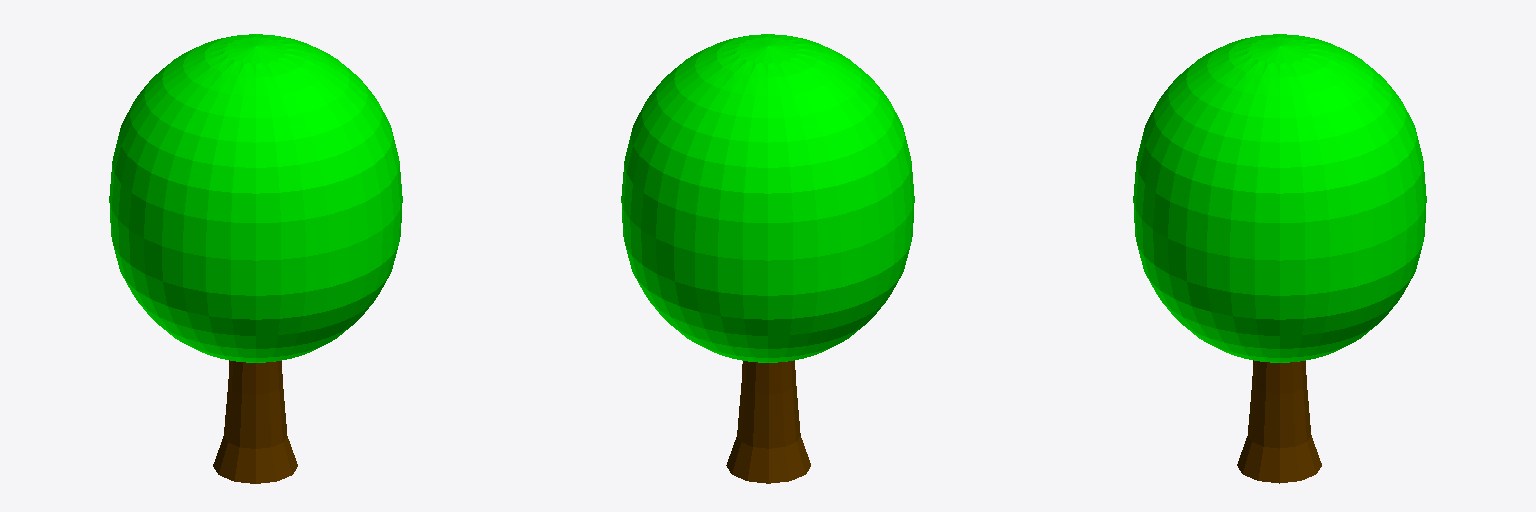
The model's file is tree1.obj.
The picture shows the model from 3 angles: view 1: azimuth 30°, elevation 25°; view 2: azimuth 150°, elevation 25°; view 3: azimuth 270°, elevation 25°; orthographic projection.
Parts seen in each view (by area): view 1: Cartoon_tree_1; view 2: Cartoon_tree_1; view 3: Cartoon_tree_1.
Part boxes in pixels (bbox=[...]): Cartoon_tree_1: bbox=[109, 34, 402, 483]; Cartoon_tree_1: bbox=[621, 34, 914, 483]; Cartoon_tree_1: bbox=[1133, 34, 1426, 483].
Size of the model in its own units: 33.67 by 53.14 by 33.68.